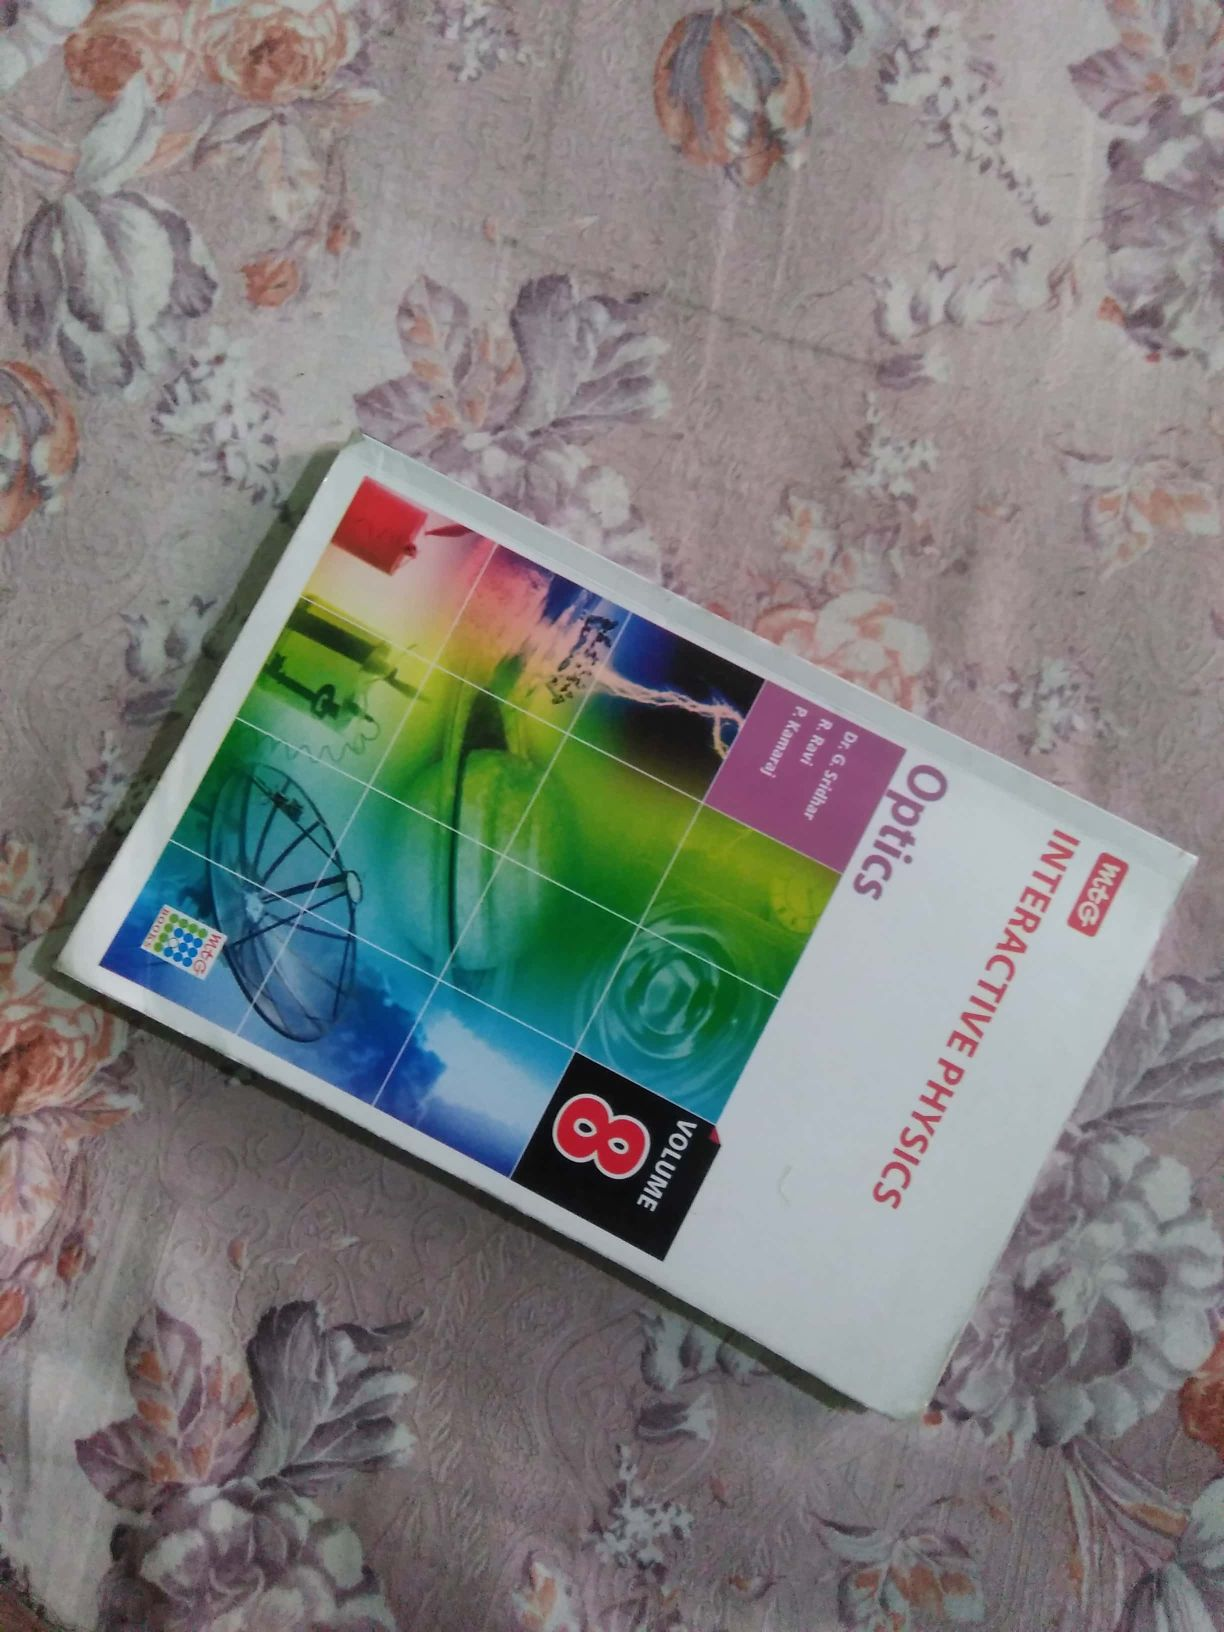optics: (54, 451, 1224, 1398)
